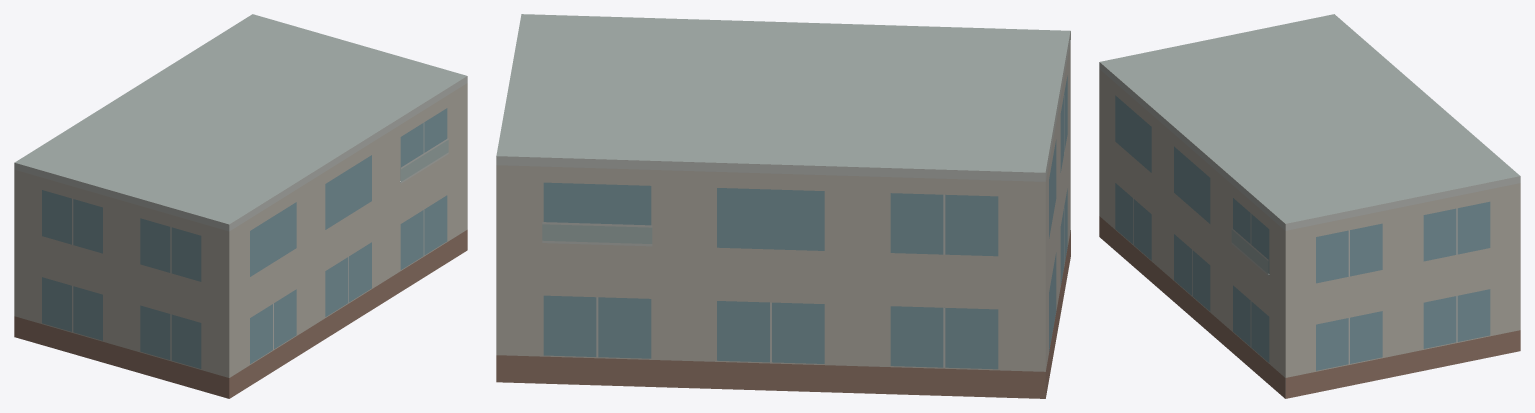
Rendered from survey-upis-32700485.glb.
The picture shows the model from 3 angles, left to right: view 1: azimuth 30°, elevation 25°; view 2: azimuth 150°, elevation 25°; view 3: azimuth 270°, elevation 25°; orthographic projection. The views are drawn at different scales.
Parts seen in each view (by area): view 1: survey-upis-32700485.tmp; view 2: survey-upis-32700485.tmp; view 3: survey-upis-32700485.tmp.
Boxes of the visible parts, bbox=[...] form: survey-upis-32700485.tmp: bbox=[14, 14, 467, 398]; survey-upis-32700485.tmp: bbox=[496, 14, 1070, 398]; survey-upis-32700485.tmp: bbox=[1099, 14, 1520, 398].
Bounding box in the file's own units: 15.7 × 6.1 × 13.32.
